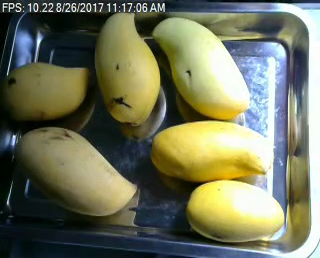Mango: (13, 127, 137, 217), (152, 16, 247, 118), (151, 119, 271, 181), (95, 12, 160, 124), (187, 180, 284, 242), (0, 60, 89, 119)
